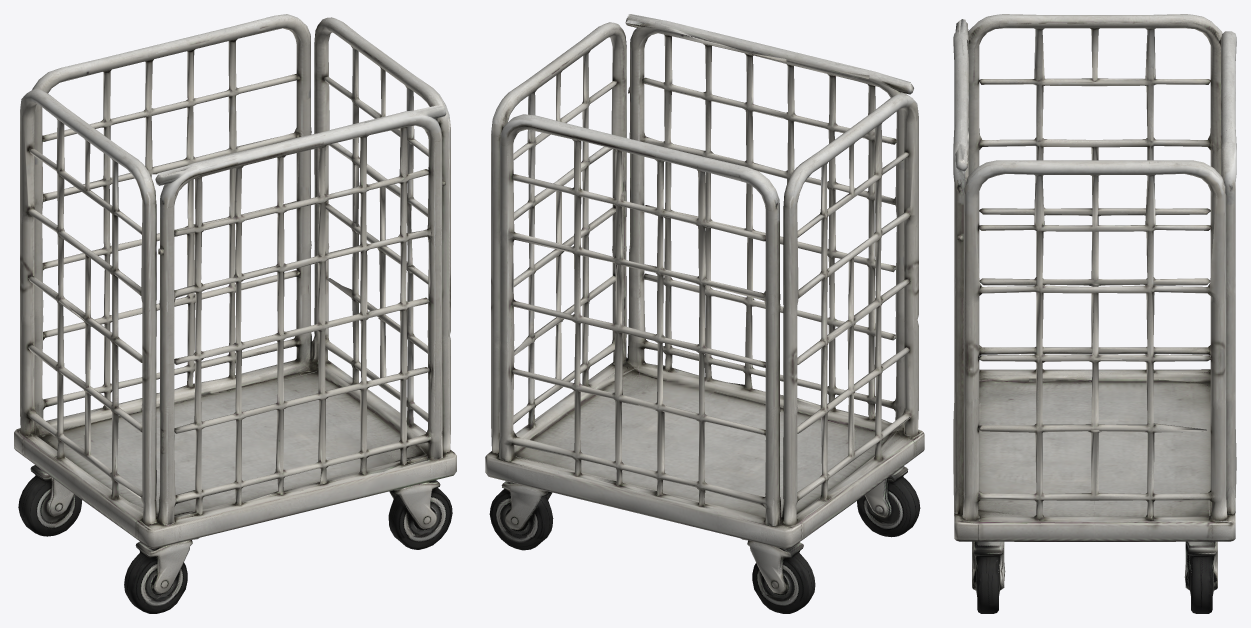
The model's file is Chariot_metal.glb.
The picture shows the model from 3 angles, left to right: view 1: azimuth 30°, elevation 25°; view 2: azimuth 150°, elevation 25°; view 3: azimuth 270°, elevation 25°; orthographic projection. The views are drawn at different scales.
Parts seen in each view (by area): view 1: Mesh_0.001; view 2: Mesh_0.001; view 3: Mesh_0.001.
Part boxes in pixels (<box>): Mesh_0.001: <box>14,14,456,613</box>; Mesh_0.001: <box>485,14,924,613</box>; Mesh_0.001: <box>953,14,1236,613</box>.
Size of the model in its own units: 1.27 by 1.7 by 0.953.
Materials: 1 (1 with a texture image).
